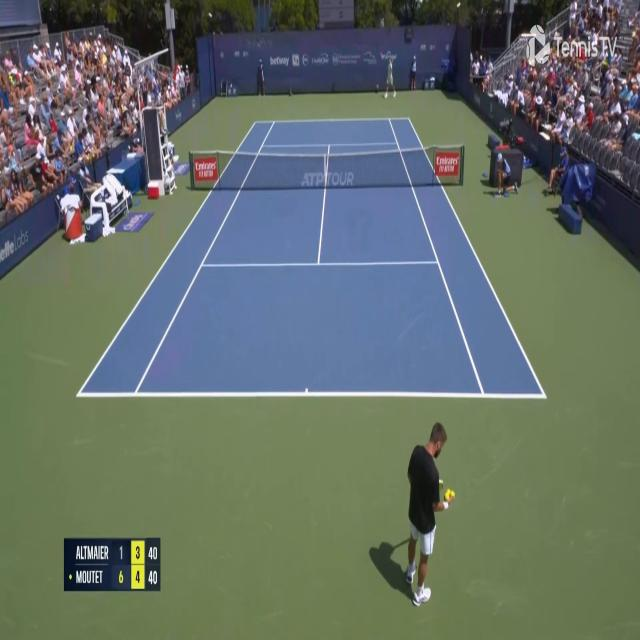tennis-player: (386, 414, 457, 608), (383, 53, 397, 103)
